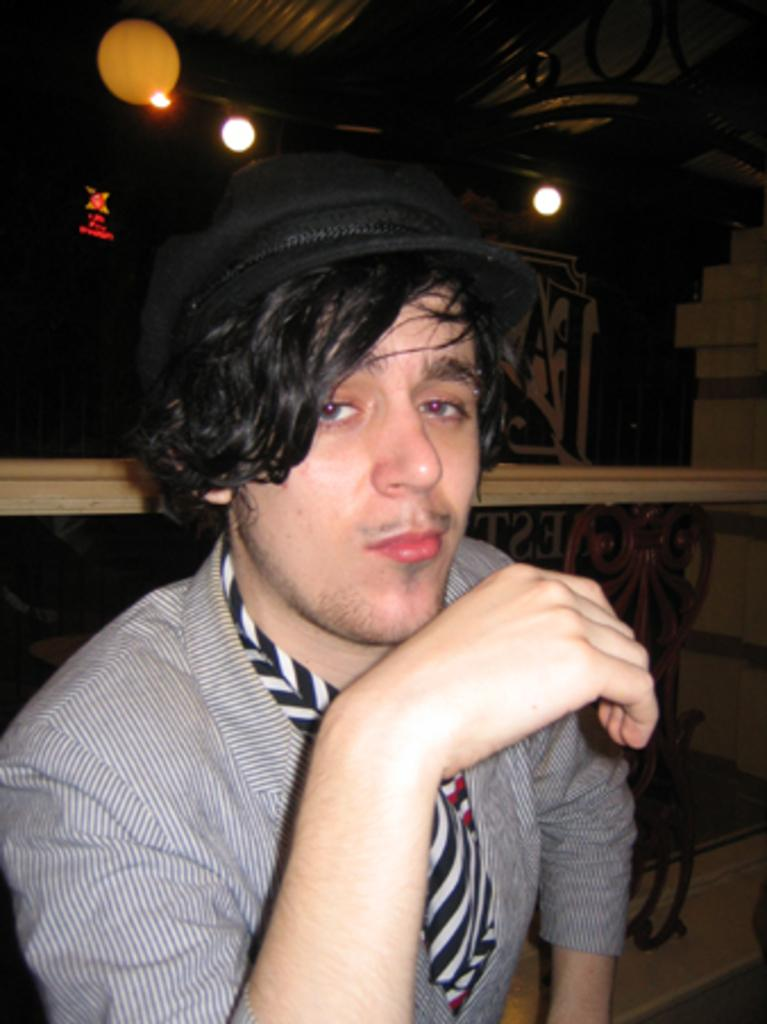Hat: (134, 150, 542, 406)
